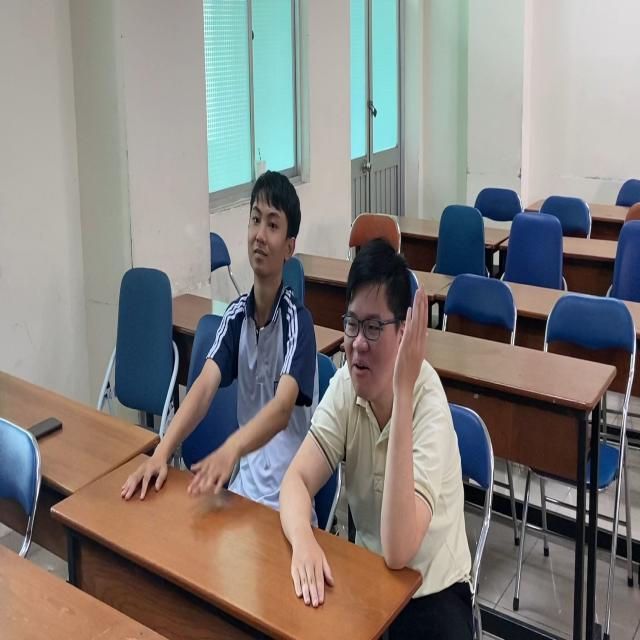raise_hand: (320, 227, 439, 579)
